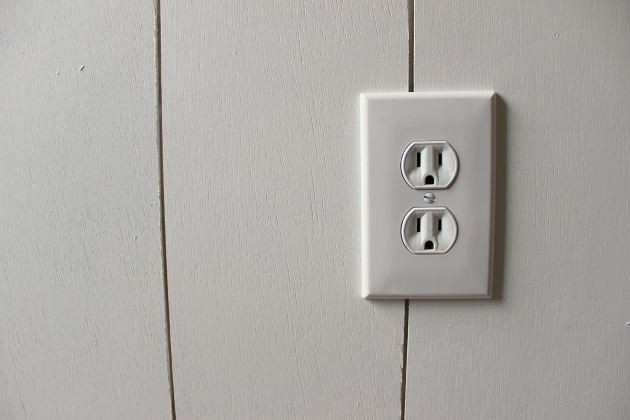outlet: (412, 148, 448, 188), (413, 214, 448, 252)
